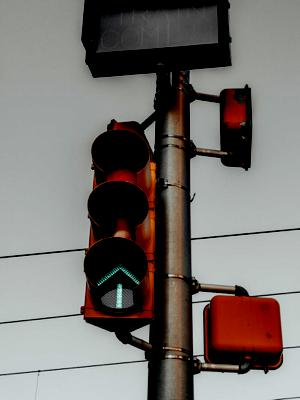International Road Signal Light: (81, 111, 164, 335)
